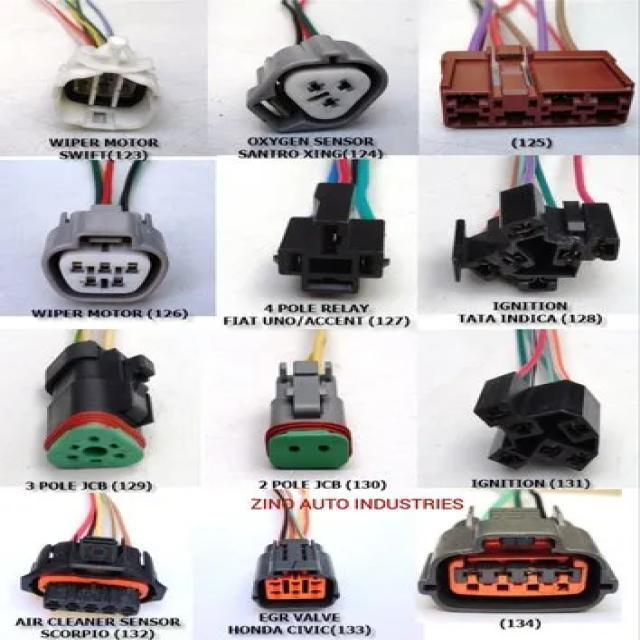connector: (228, 5, 398, 176), (417, 501, 619, 614), (438, 38, 635, 132), (40, 342, 155, 473), (39, 205, 169, 306), (281, 183, 390, 294), (19, 539, 169, 618), (49, 38, 166, 135), (263, 359, 355, 473), (249, 538, 342, 614)
